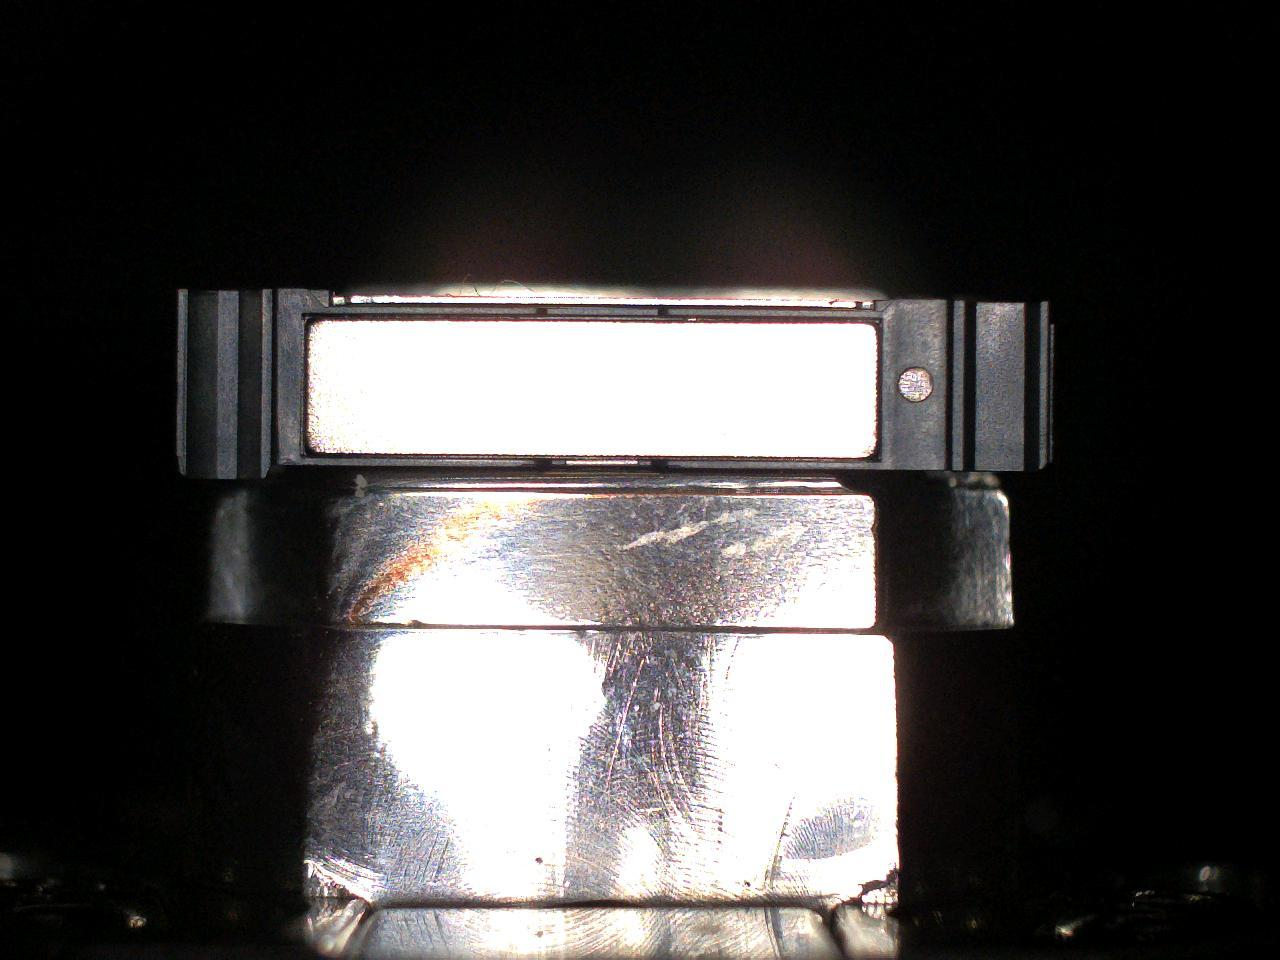frame: (177, 289, 1054, 480)
gap: (305, 453, 538, 460), (304, 315, 537, 322), (668, 455, 884, 462), (670, 317, 883, 324), (547, 314, 658, 323), (552, 456, 651, 461)
magnetic: (305, 321, 880, 458)
